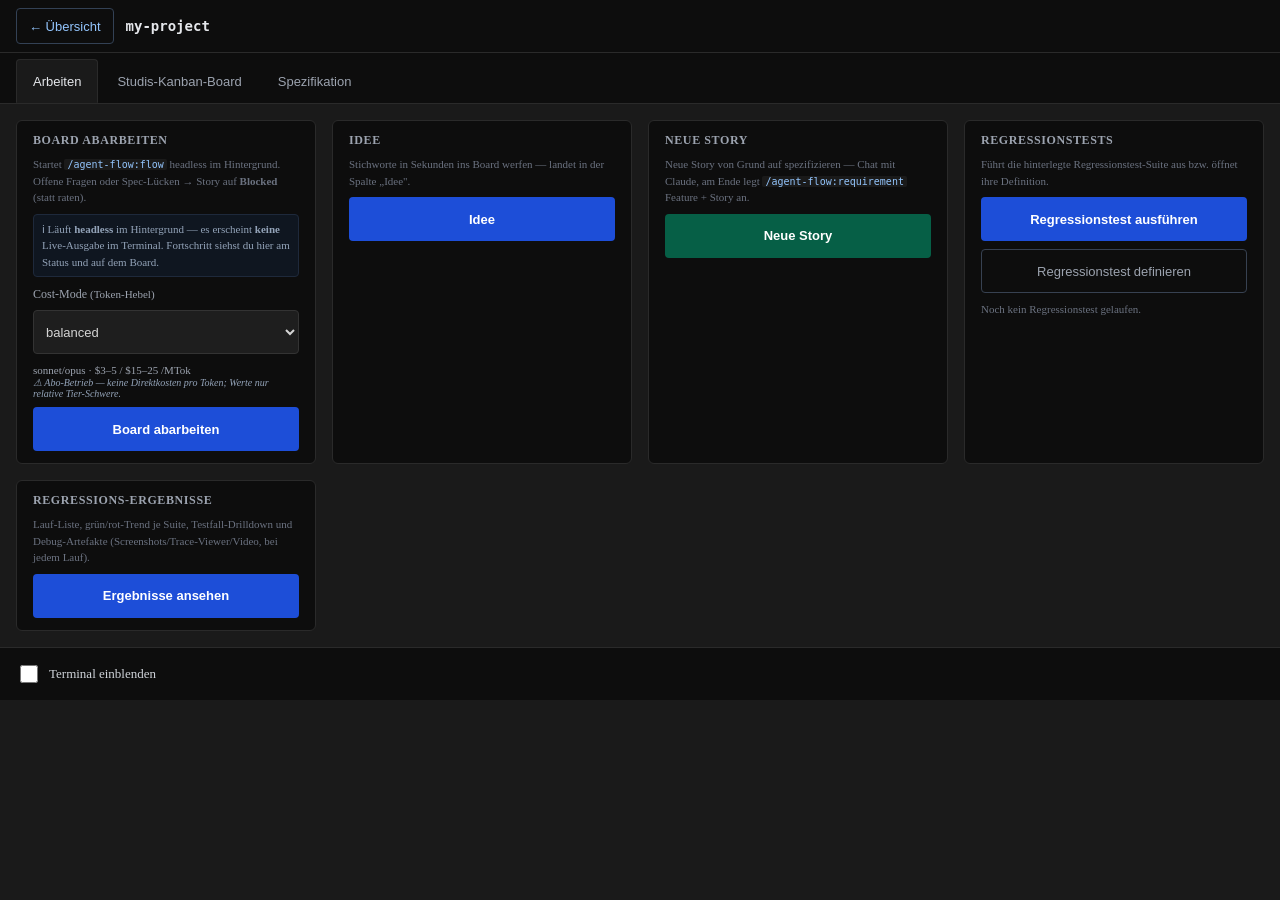
Scenario: CockpitView — AC4 (ideen-inbox): Leerer Titel deaktiviert Speichern › Save button becomes enabled once a non-whitespace title is entered
Click the button with test id "idea-capture-btn" at (482, 219), box [349, 197, 615, 241]
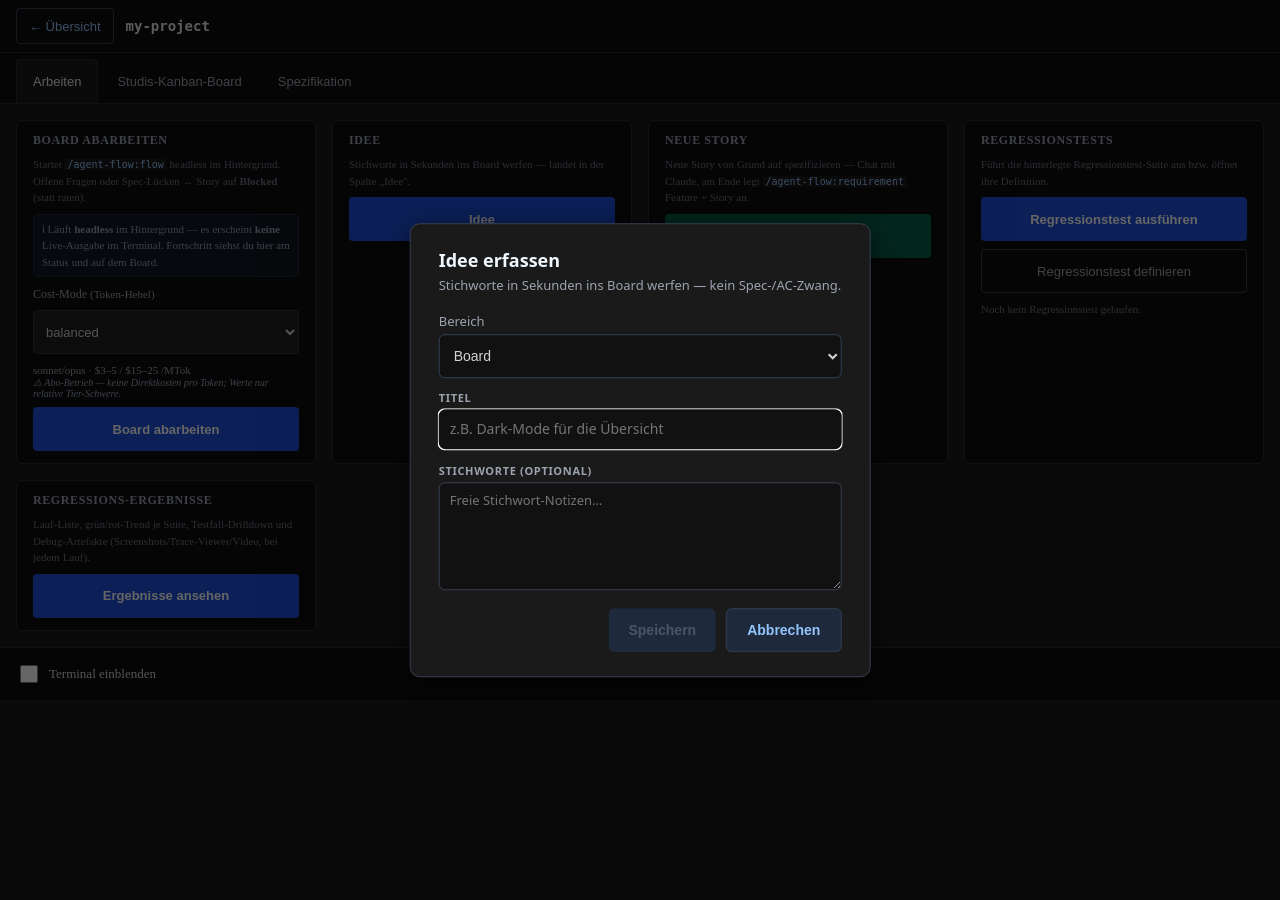
Type "Eine Idee" into the field with test id "idea-title-input" at (640, 429), box [439, 409, 841, 449]
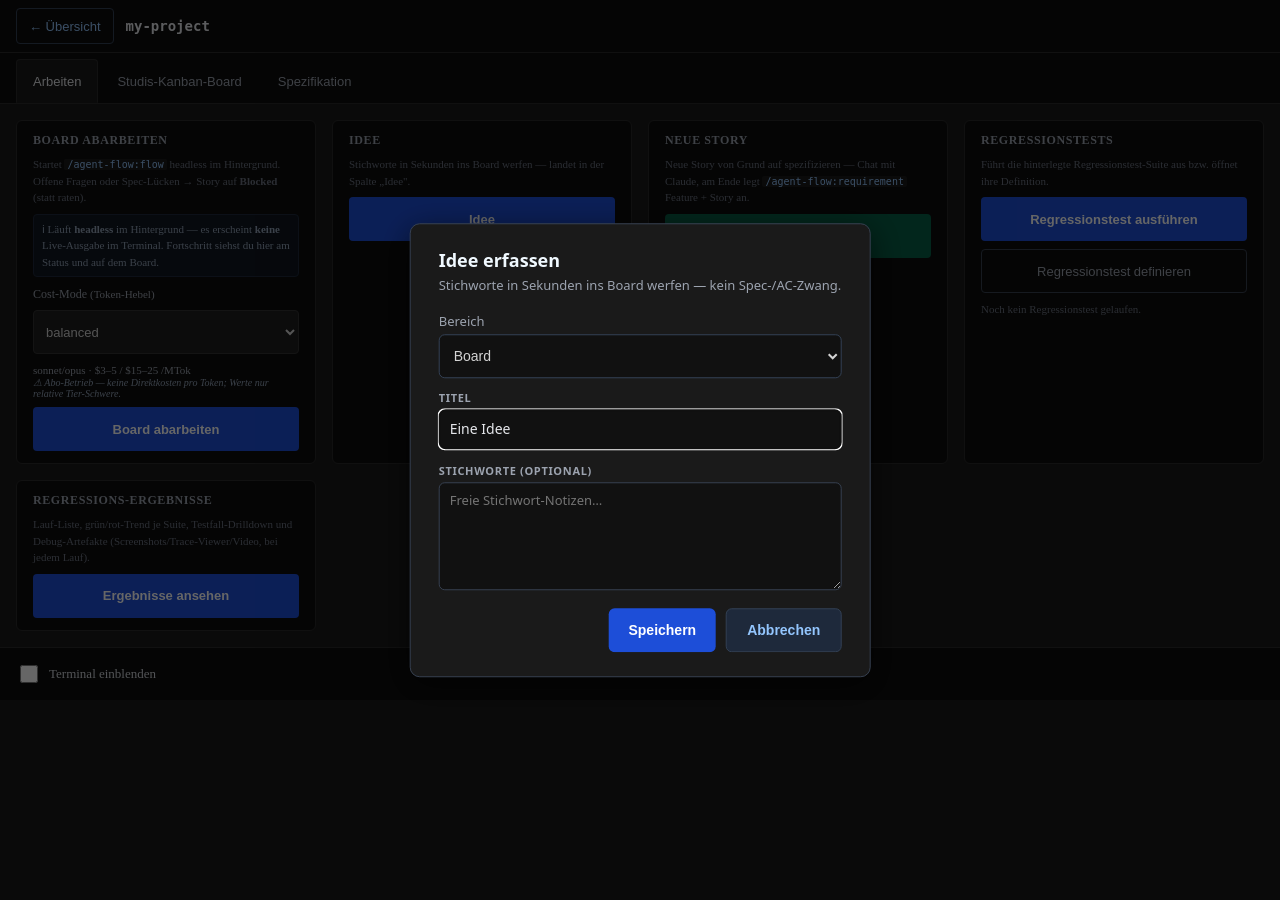
Check: the button with test id "idea-save-btn" is enabled, box [608, 608, 716, 652]
